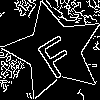F: (29, 26, 80, 81)
